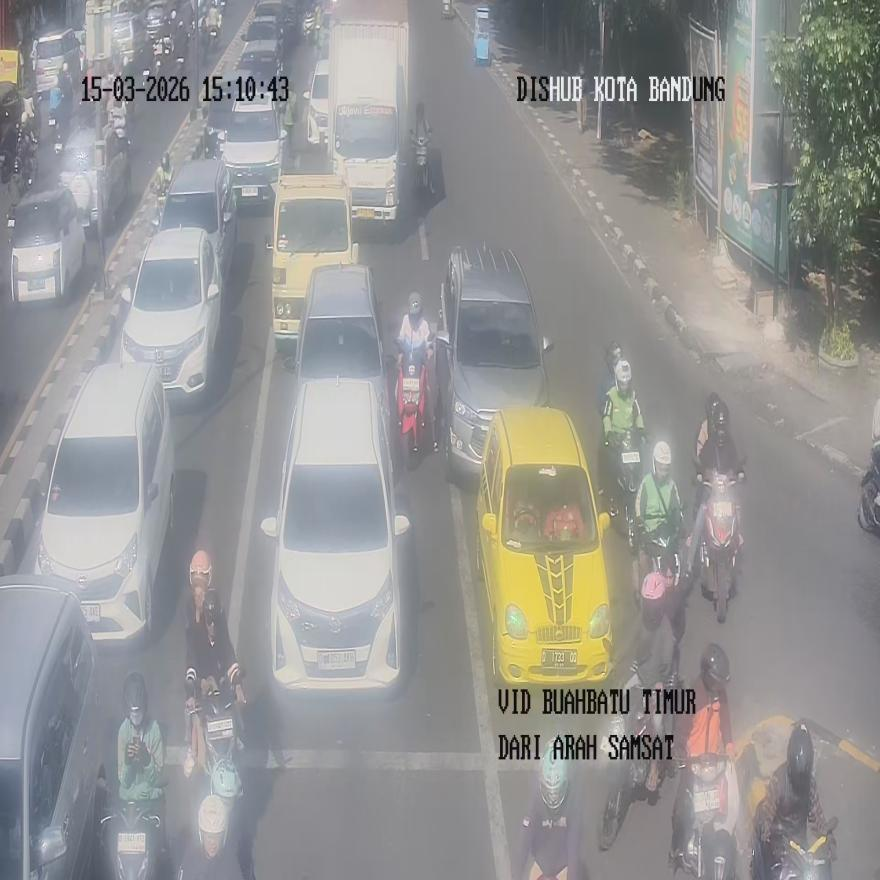Mobil: (261, 378, 410, 693), (35, 362, 175, 641), (476, 407, 613, 690), (0, 575, 105, 878), (436, 244, 553, 478), (120, 226, 222, 397), (284, 263, 393, 410), (154, 157, 237, 296), (7, 184, 85, 305)
Motor: (598, 662, 676, 849), (518, 735, 582, 878), (669, 753, 740, 880), (184, 666, 245, 805), (99, 778, 167, 880), (696, 469, 740, 622), (750, 814, 837, 879), (602, 428, 644, 546), (396, 346, 432, 466), (857, 448, 880, 532), (48, 84, 71, 149), (303, 5, 321, 46)
Truk ringan: (267, 173, 358, 352), (328, 19, 408, 222)
